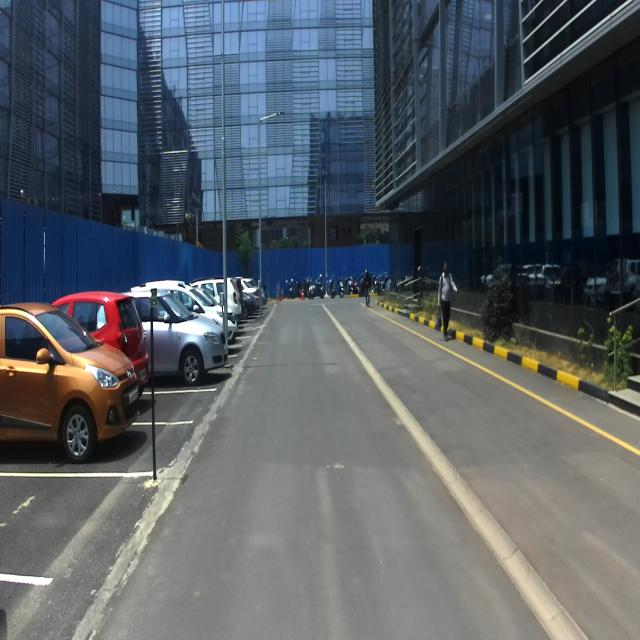car ahead at: (0, 297, 140, 468), (145, 283, 231, 384)
person ahead at: (434, 257, 458, 344)
